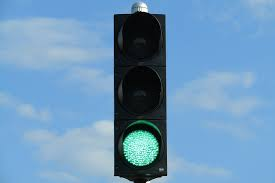green: (110, 11, 171, 180), (118, 15, 164, 172), (122, 17, 160, 168)
